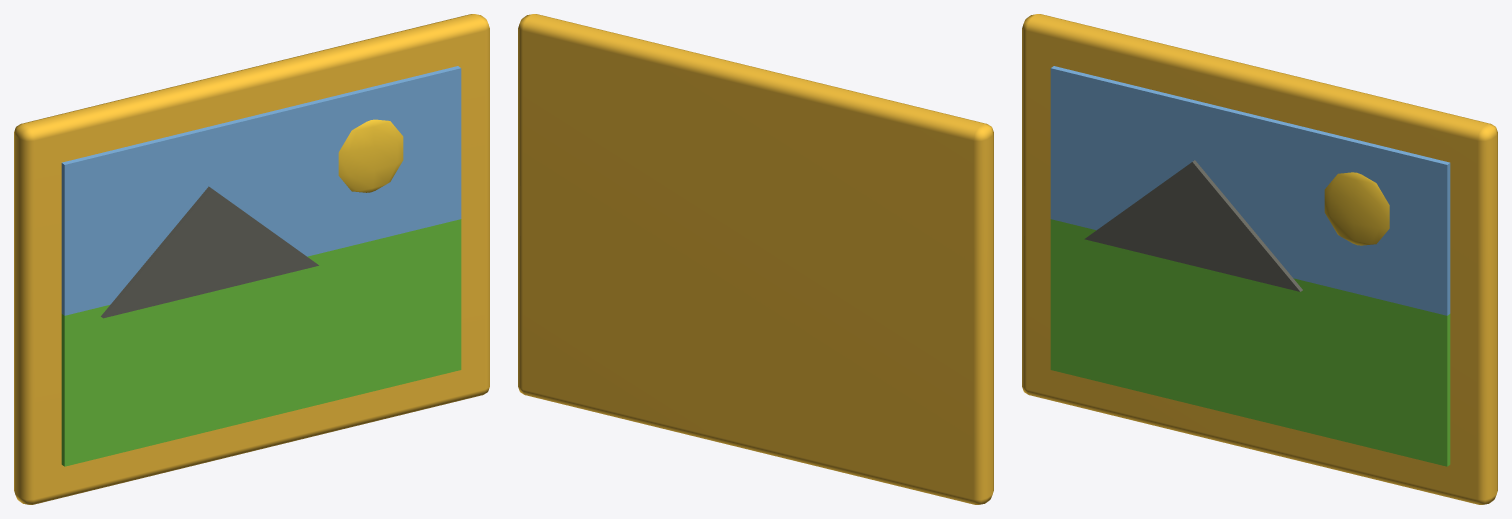
Rendered from PictureFrame.fbx.
3 views of the same model, side by side, from view 1: azimuth 30°, elevation 25°; view 2: azimuth 150°, elevation 25°; view 3: azimuth 330°, elevation 25° (orthographic).
Visible parts, largest first — view 1: PictureFrame; view 2: PictureFrame; view 3: PictureFrame.
Boxes of the visible parts, x1=… form: PictureFrame: x1=14, y1=14, x2=489, y2=504; PictureFrame: x1=518, y1=14, x2=993, y2=504; PictureFrame: x1=1022, y1=14, x2=1497, y2=504.
Size of the model in its own units: 2.6 by 2 by 0.213.
1 material, 1 textured.
